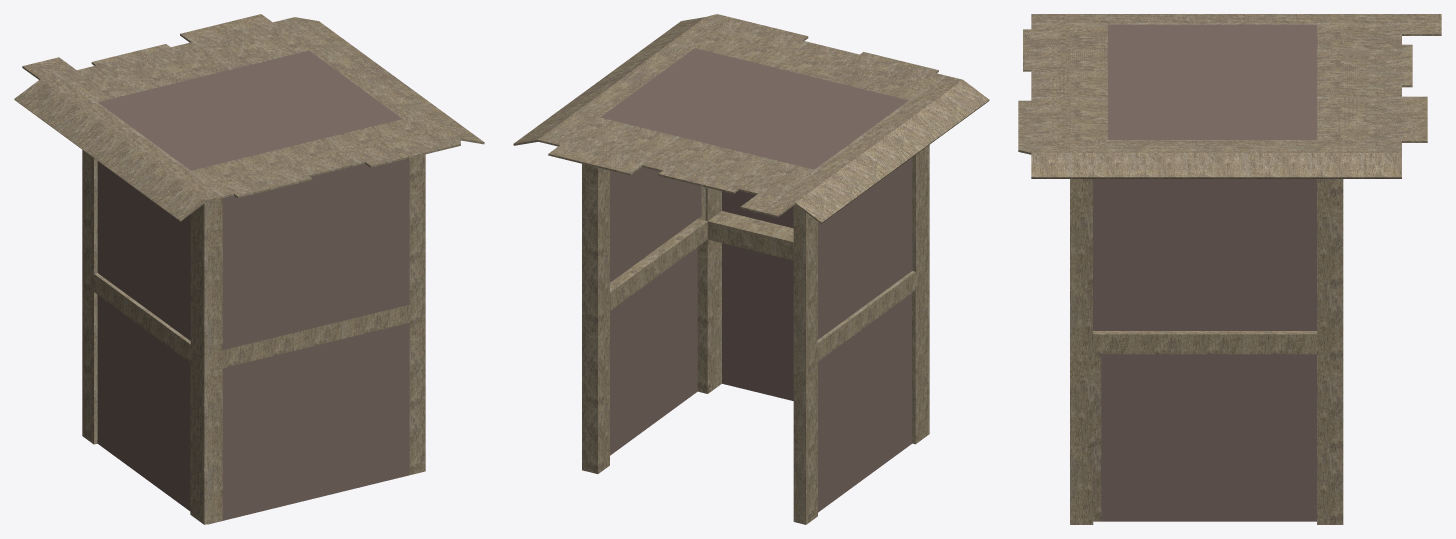
File: House 3.fbx
3 renders of one model, left to right at view 1: azimuth 30°, elevation 25°; view 2: azimuth 150°, elevation 25°; view 3: azimuth 270°, elevation 25°, orthographic. The views are drawn at different scales.
Parts seen in each view (by area): view 1: Model; view 2: Model; view 3: Model.
Part boxes in pixels (x1,y1,x2,y2): Model: (14, 14, 484, 524); Model: (513, 14, 989, 524); Model: (1018, 14, 1441, 524).
Size of the model in its own units: 916 by 980 by 986.
